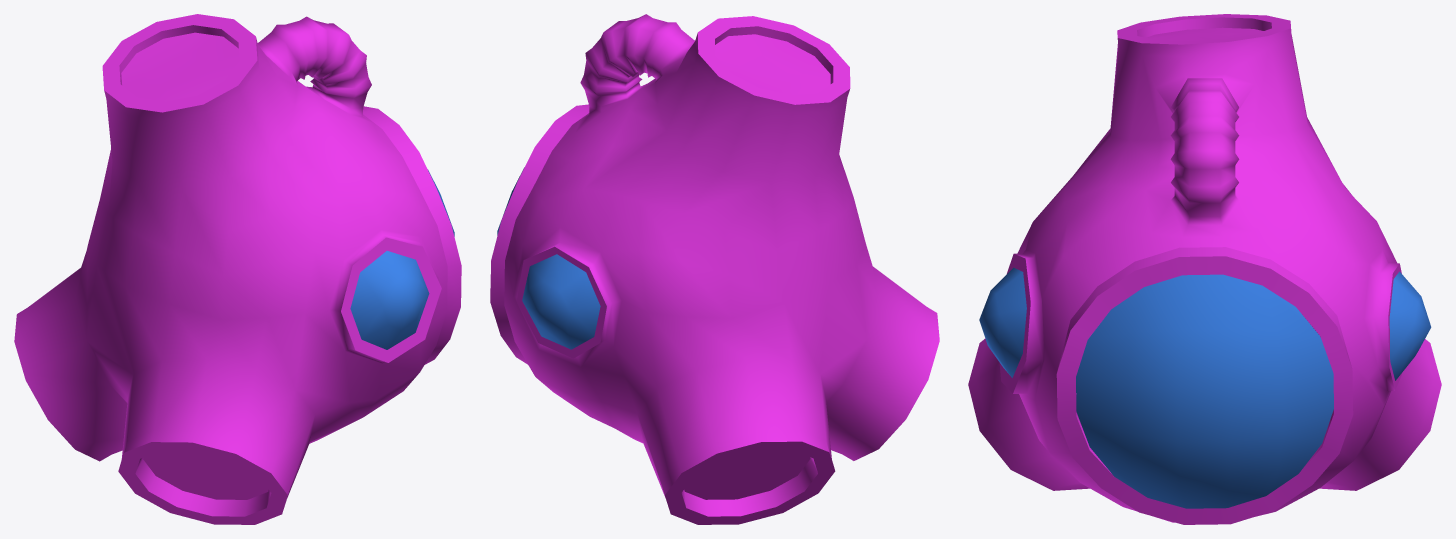
File: character2.fbx
3 renders of one model, left to right at view 1: azimuth 30°, elevation 25°; view 2: azimuth 150°, elevation 25°; view 3: azimuth 270°, elevation 25°, orthographic. The views are drawn at different scales.
Visible parts, largest first — view 1: separatechara, window; view 2: separatechara, window; view 3: separatechara, window.
Part boxes in pixels (bbox=[...]): separatechara: bbox=[14, 14, 461, 524]; window: bbox=[350, 170, 454, 349]; separatechara: bbox=[490, 14, 939, 524]; window: bbox=[497, 167, 600, 349]; separatechara: bbox=[968, 14, 1441, 524]; window: bbox=[979, 267, 1431, 508].
Size of the model in its own units: 395 by 468 by 410.
